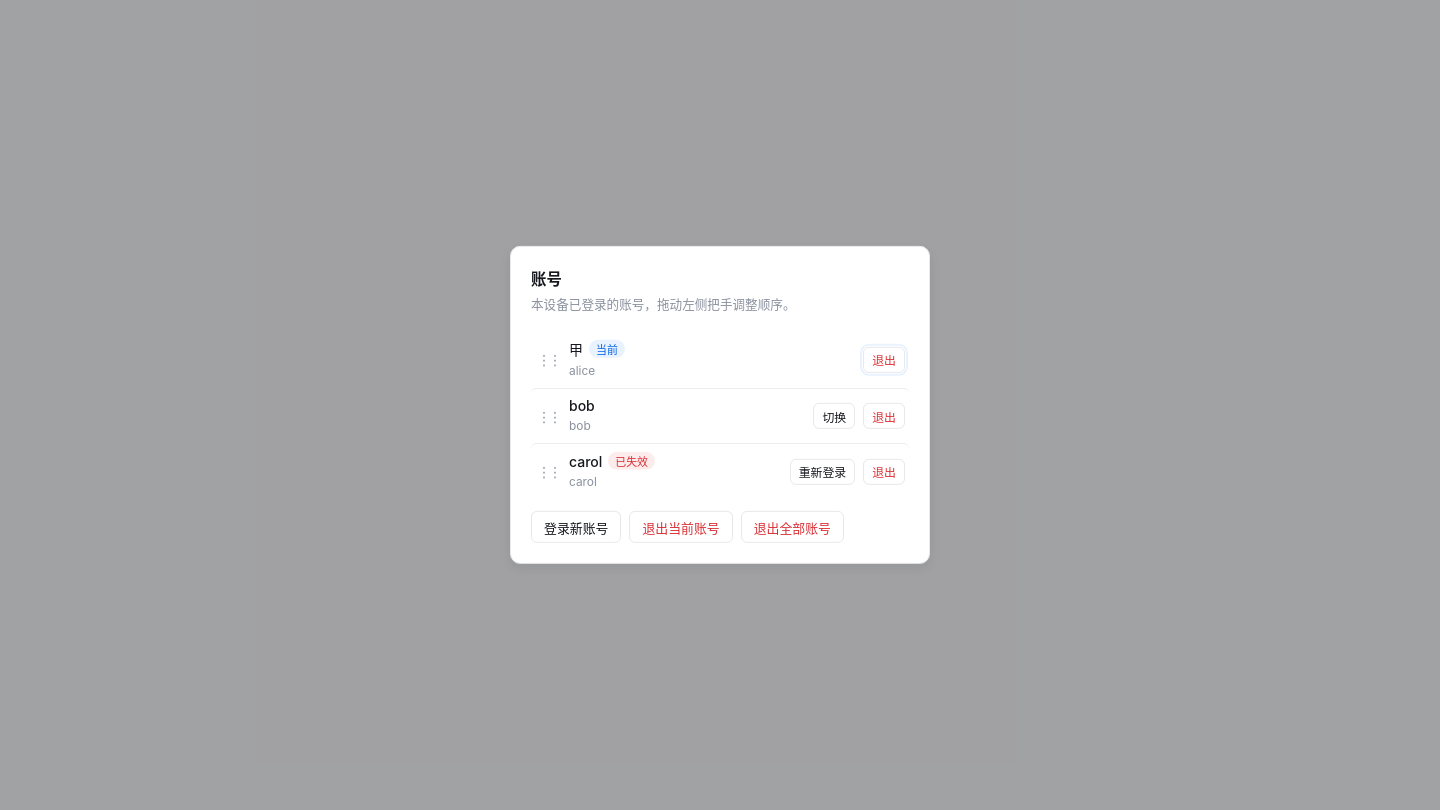
AccountsDialog › 有上传或请求进行中时不切换，提示稍后再试
Click the button "切换": (834, 416) [813,403,855,429]
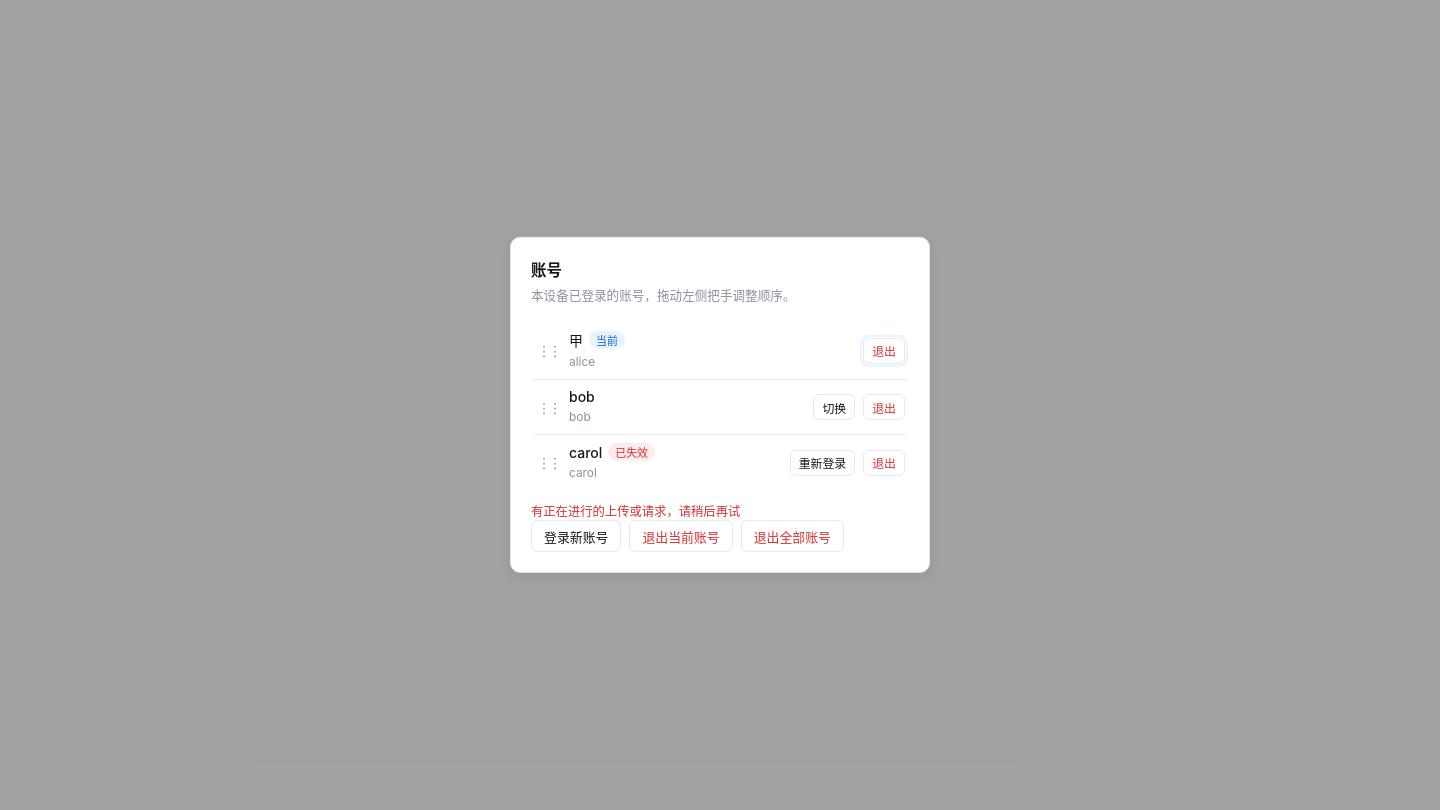
Result: the message shows "有正在进行的上传或请求" at [531,504,740,519]
